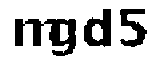5: (116, 6, 151, 51)
d: (82, 6, 113, 50)
g: (51, 17, 79, 57)
m: (9, 17, 57, 47)
